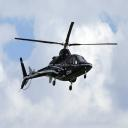helicopter: (15, 21, 119, 93)
